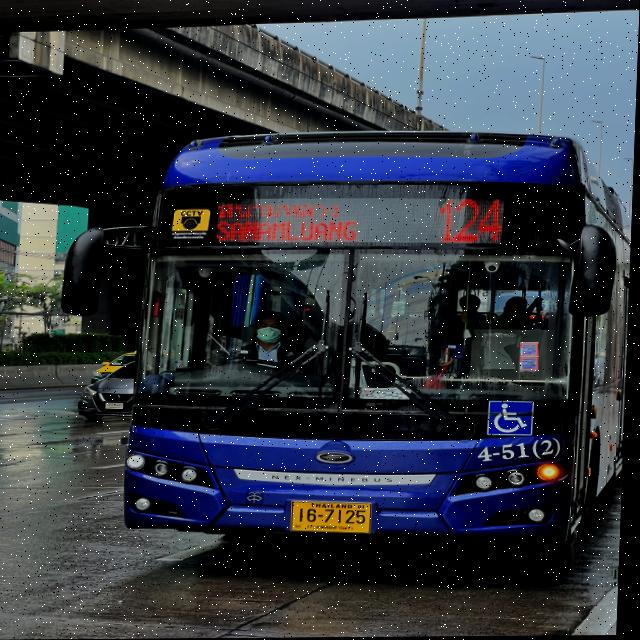Bus-Line-Number: (431, 191, 514, 255)
Destination-Sign-Normal: (210, 195, 369, 245)
TSB-Bus: (57, 132, 636, 554)
